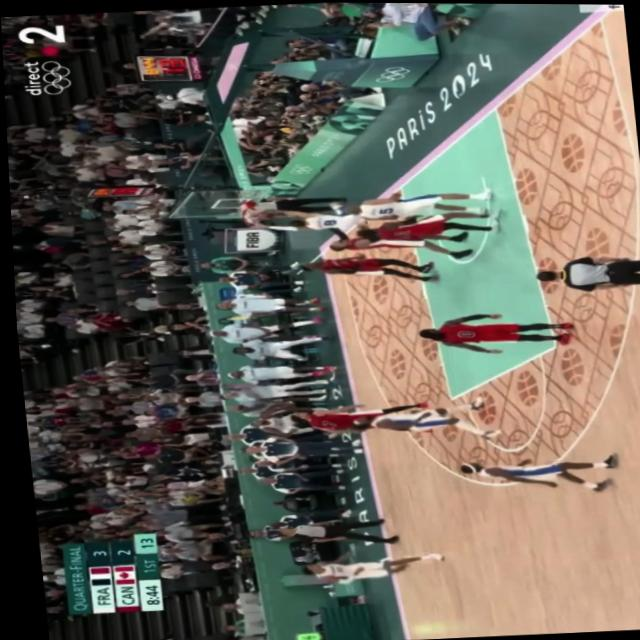ball_handler: (242, 203, 356, 232)
